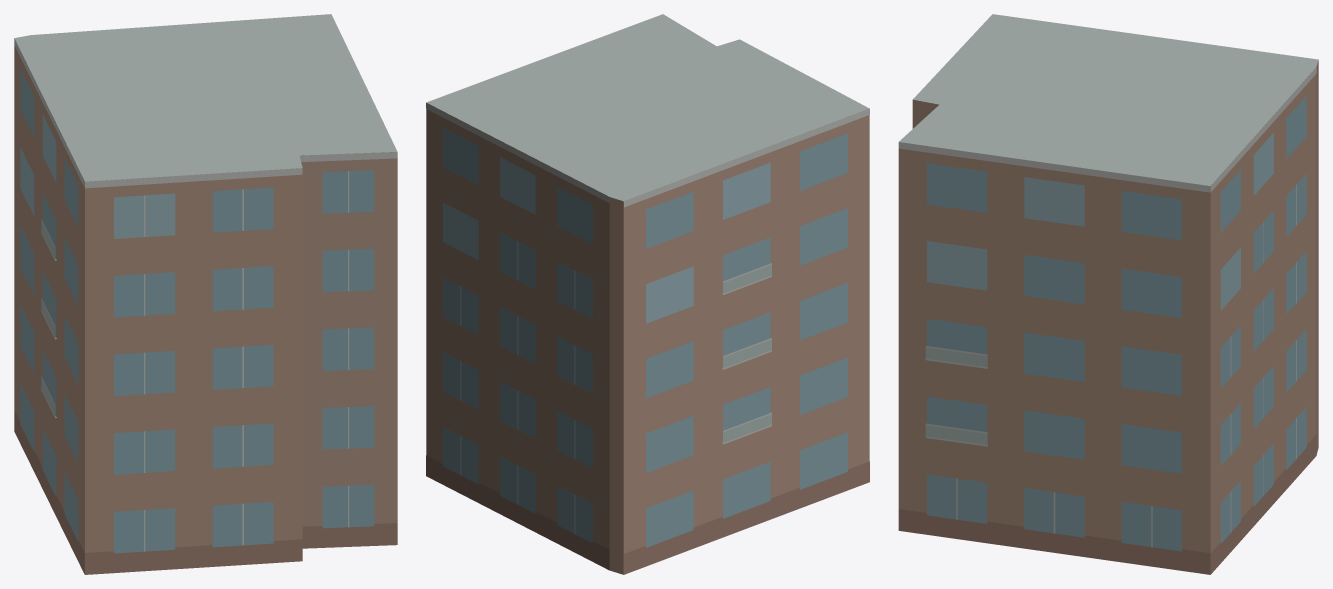
The model's file is survey-upis-32894348.glb.
3 renders of one model, left to right at view 1: azimuth 30°, elevation 25°; view 2: azimuth 150°, elevation 25°; view 3: azimuth 270°, elevation 25°, orthographic. The views are drawn at different scales.
Visible parts, largest first — view 1: survey-upis-32894348.tmp; view 2: survey-upis-32894348.tmp; view 3: survey-upis-32894348.tmp.
Part boxes in pixels (left/top/right/bottom): survey-upis-32894348.tmp: left=14, top=14, right=397, bottom=574; survey-upis-32894348.tmp: left=426, top=14, right=869, bottom=574; survey-upis-32894348.tmp: left=898, top=14, right=1318, bottom=574.
Bounding box in the file's own units: 13.78 × 14.5 × 14.2.
